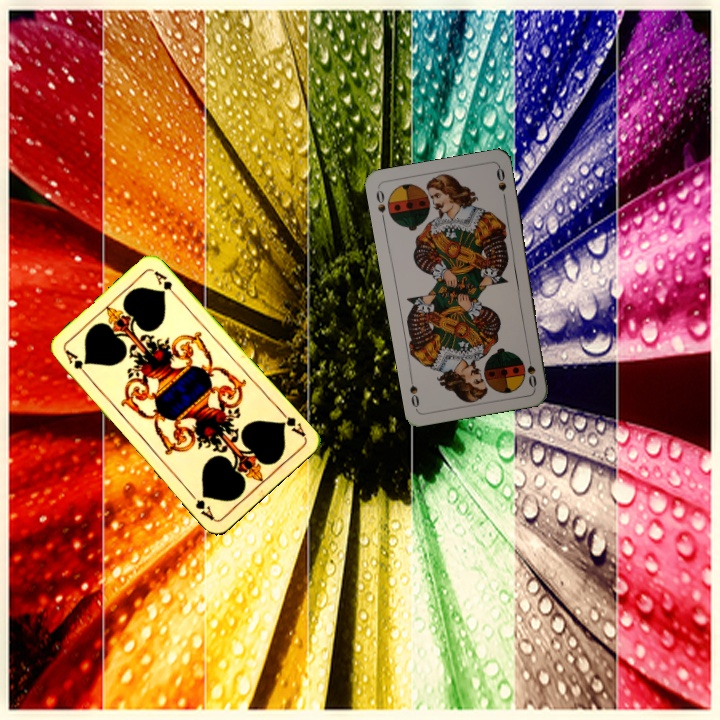GA: (276, 406, 308, 440), (61, 346, 92, 380)
SO: (523, 350, 539, 390), (372, 186, 388, 225)
